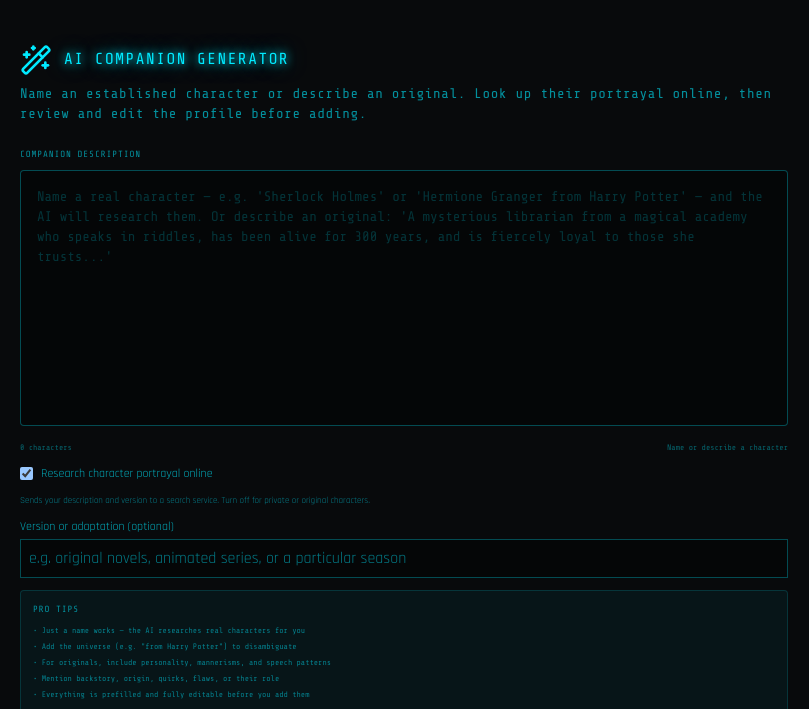
character setup research › lets original characters skip research and labels the draft accordingly
Replace the text in the text box with placeholder "Name a real character" with "Nova" at (404, 298), box [20,170,788,426]
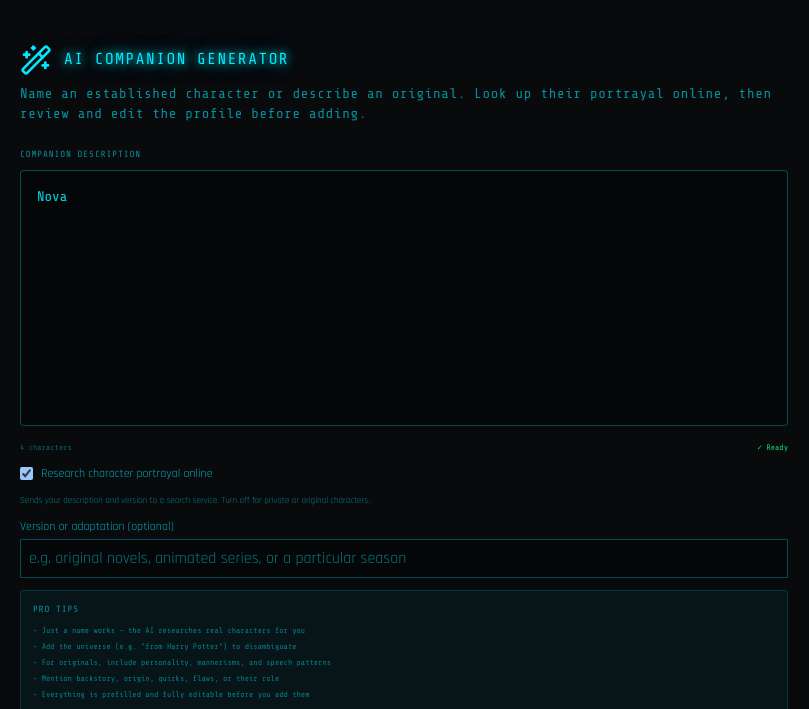
Click the checkbox labelled "Research character portrayal online" at (26, 474), box [20,467,33,480]
(page scrolled)
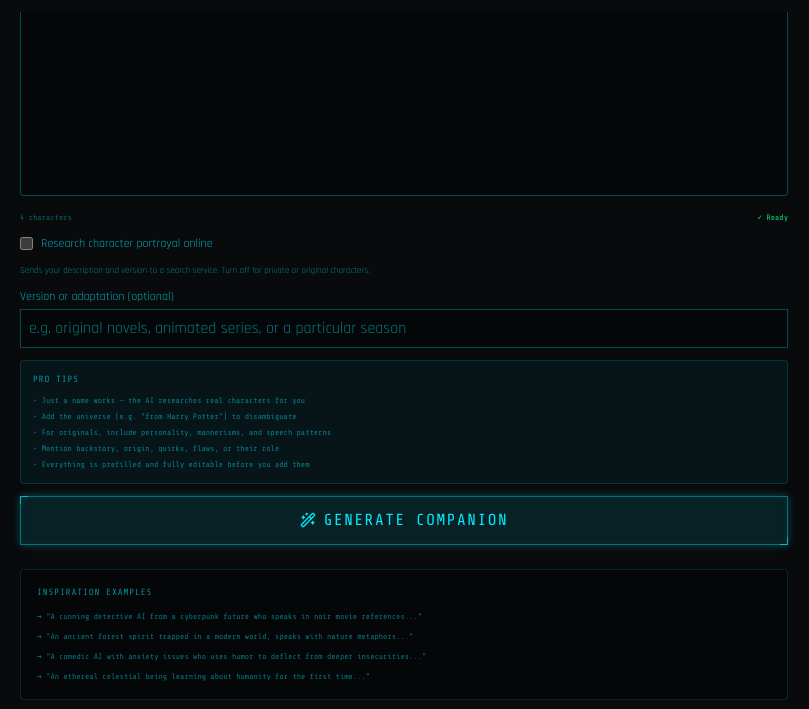
Click the button "Generate Companion" at (404, 520), box [20,496,788,545]
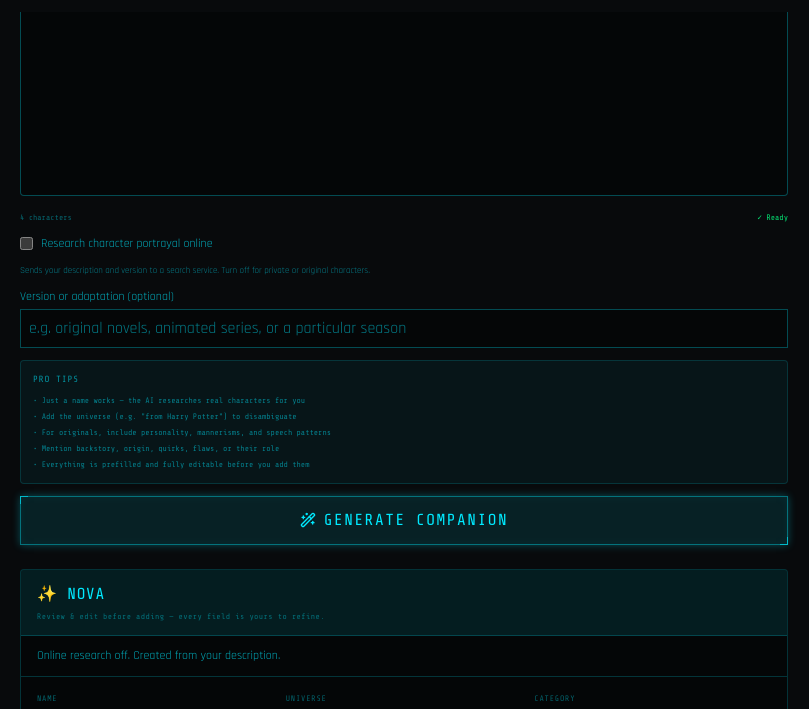
Check: the text "Online research off. Created from your description." is shown, box [37,648,280,662]
